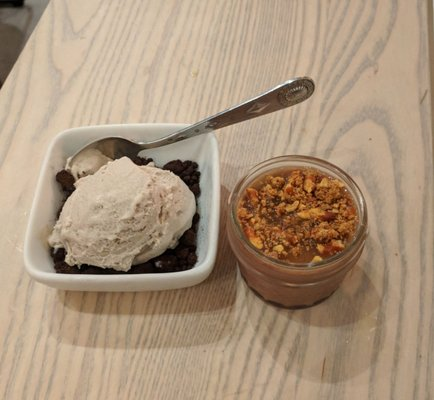salad: (53, 76, 316, 194)
sushi: (22, 124, 220, 293), (225, 155, 369, 309)
